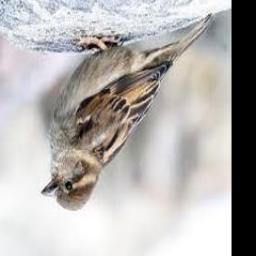Sparrow: (42, 14, 215, 211)
